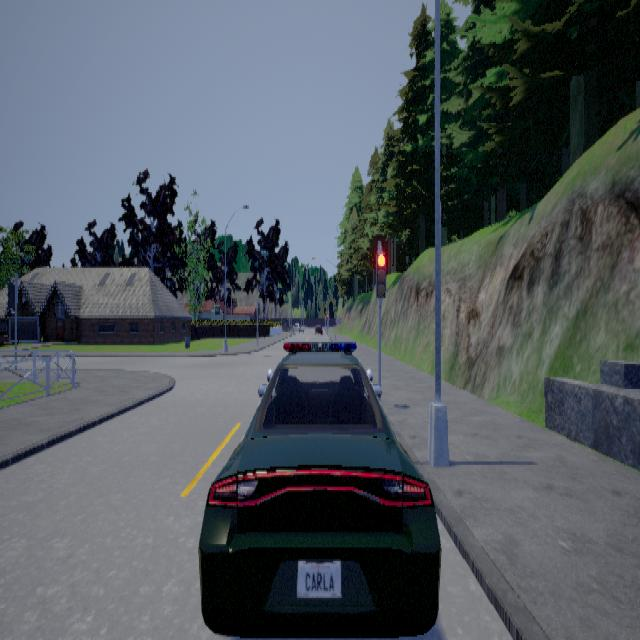red_light: (375, 242, 385, 306)
vehicle: (197, 340, 441, 637)
